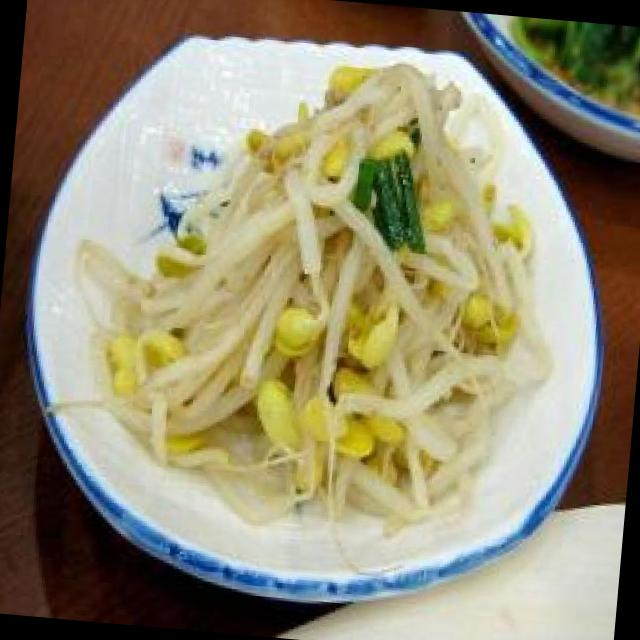mung_bean_sprouts: (140, 94, 513, 512)
